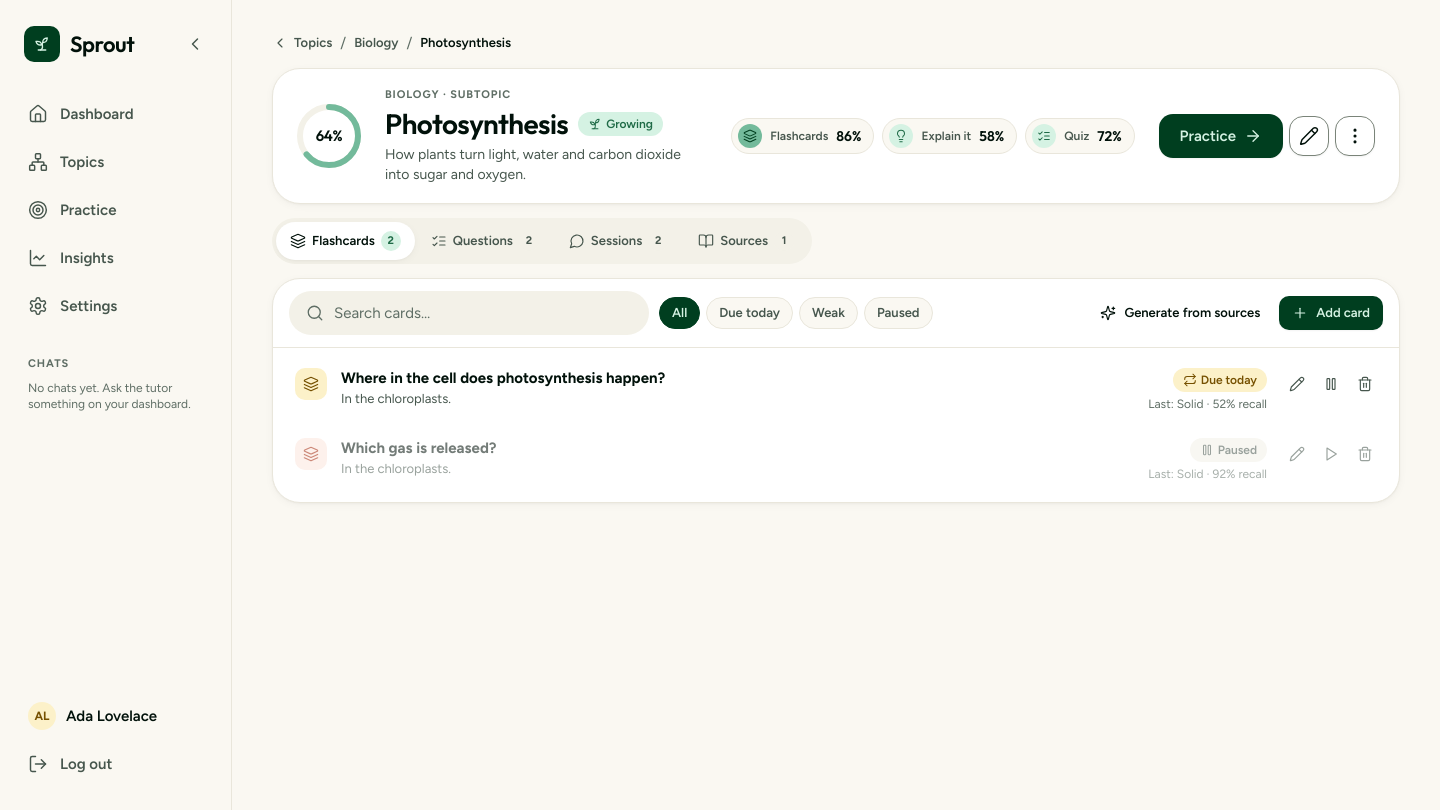
Test: SubtopicView › filters the cards and shows their status
This screenshot has width=1440, height=810.
Check: the elements with test id "card-status" read "Due today", "Paused", in this order, box [1173,368,1267,392]; [1190,438,1267,462]
Click the button with test id "filter-paused" at (898, 313), box [864,297,932,329]
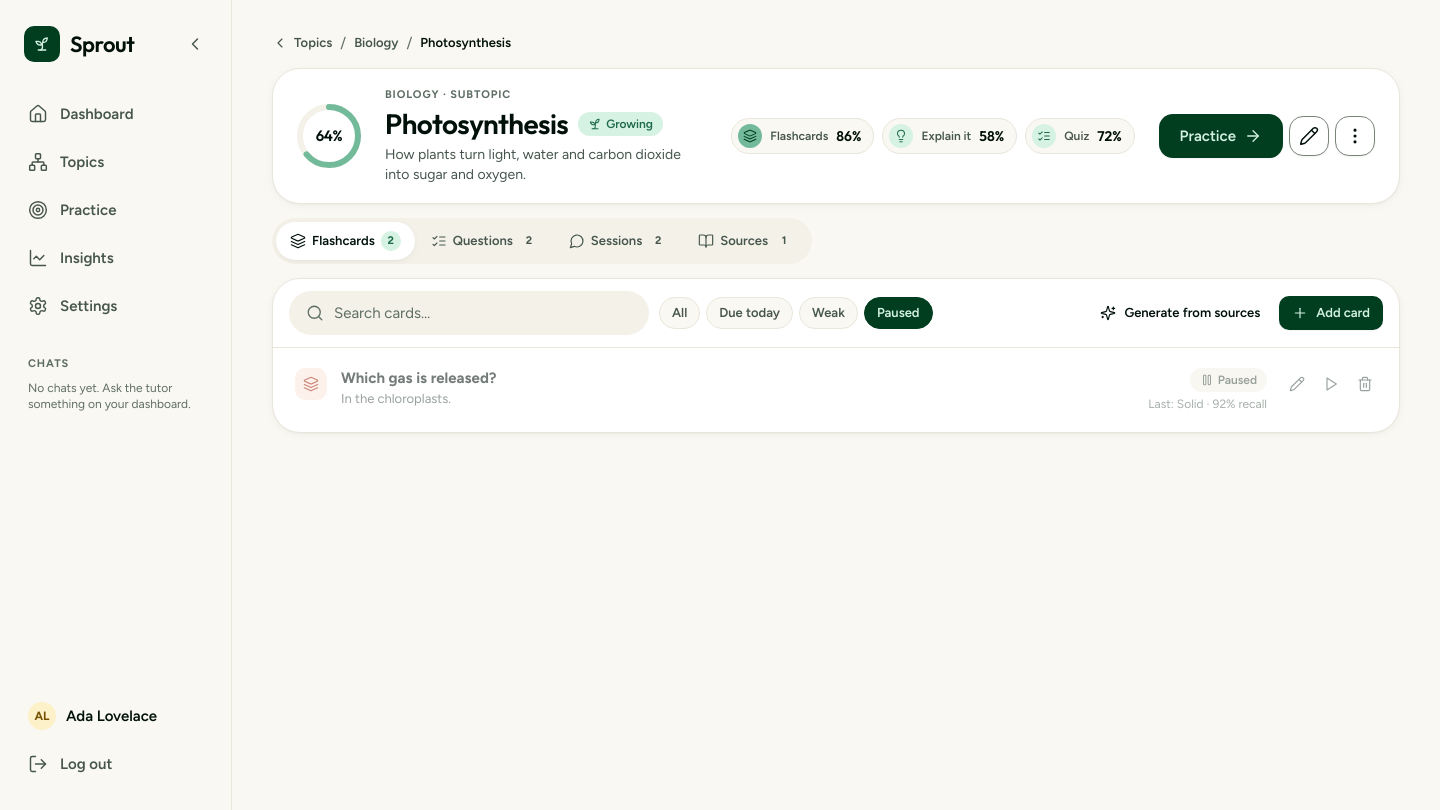
Click the button with test id "filter-weak" at (828, 313), box [799,297,858,329]
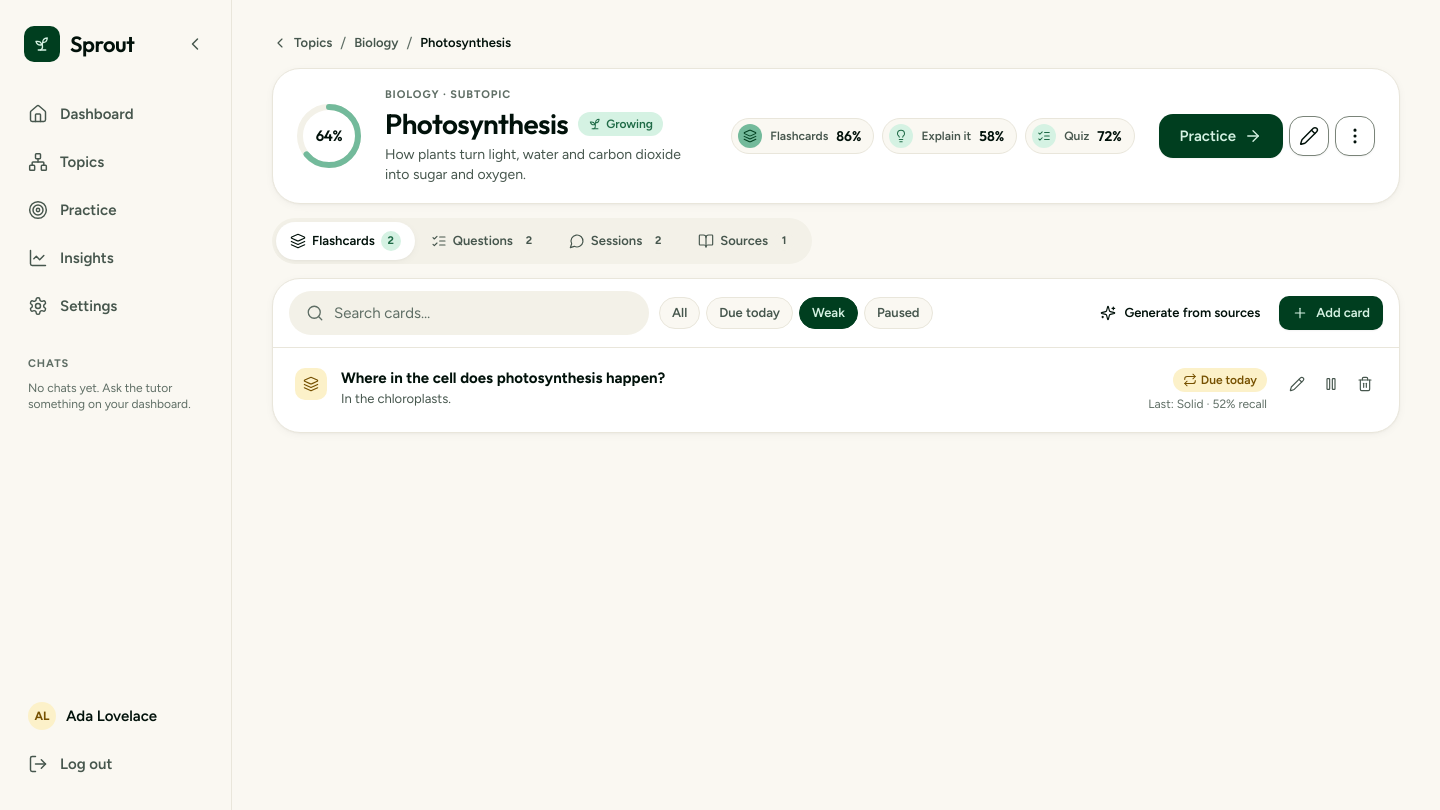
Type "nothing like this" into the search field with test id "search" at (487, 313), box [334,302,640,324]
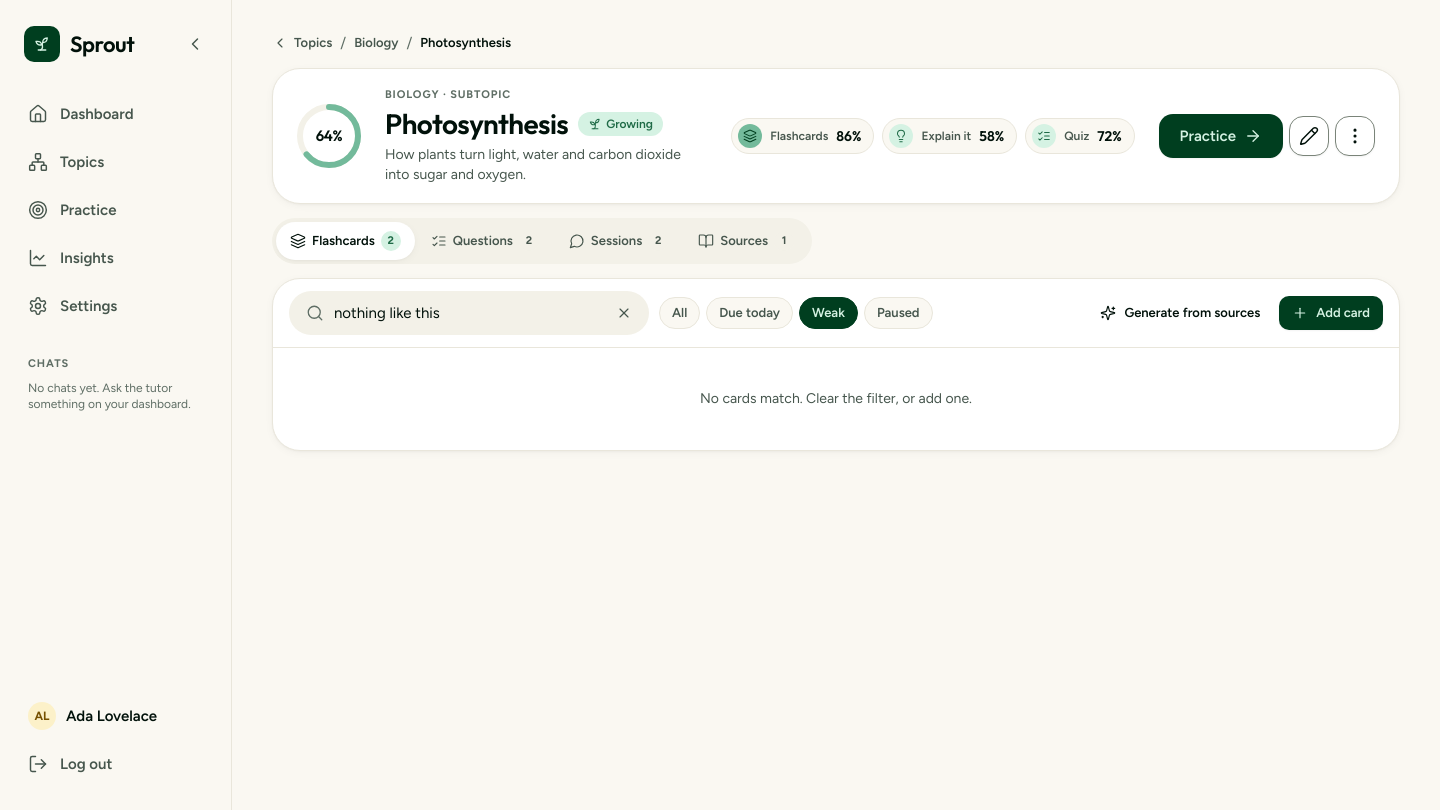
Check: the list item with test id "empty" reads "No cards match. Clear the filter, or add one.", box [700,390,972,407]
